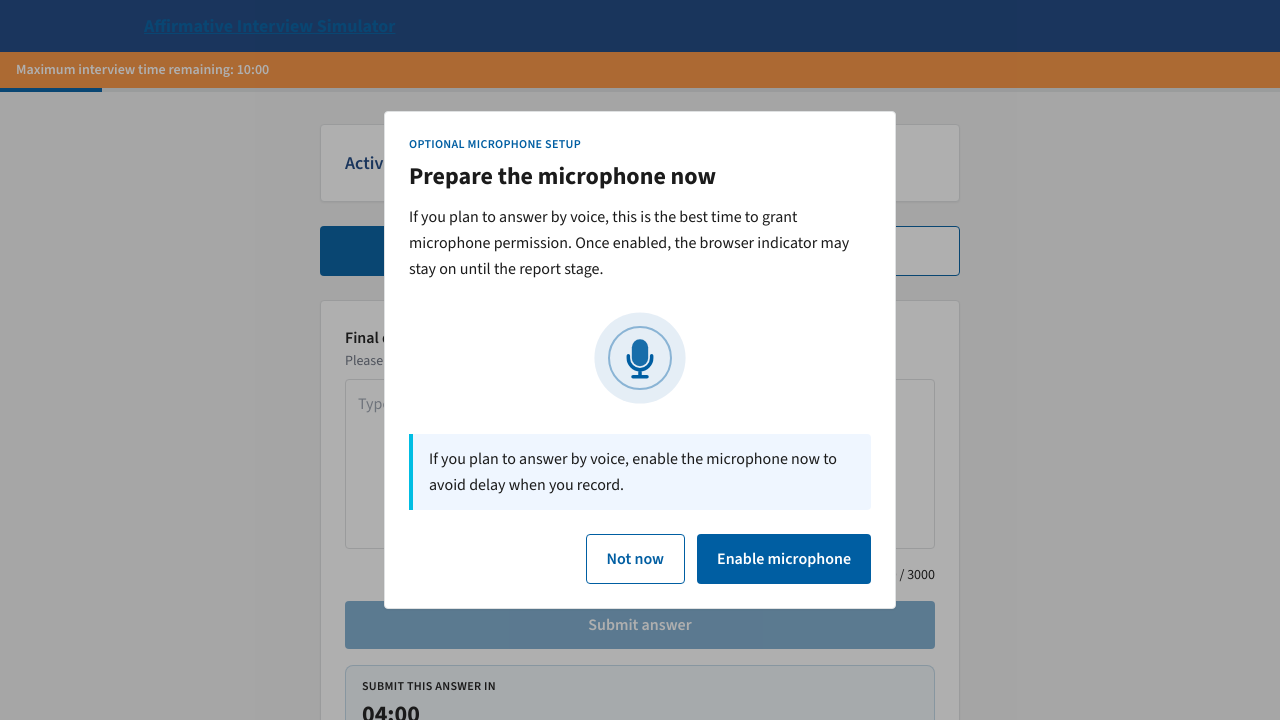
Scenario: InterviewPage › allows the readiness microphone prompt to be dismissed without warming the mic
Click the button "Not now" at (635, 559), box [586,534,685,584]
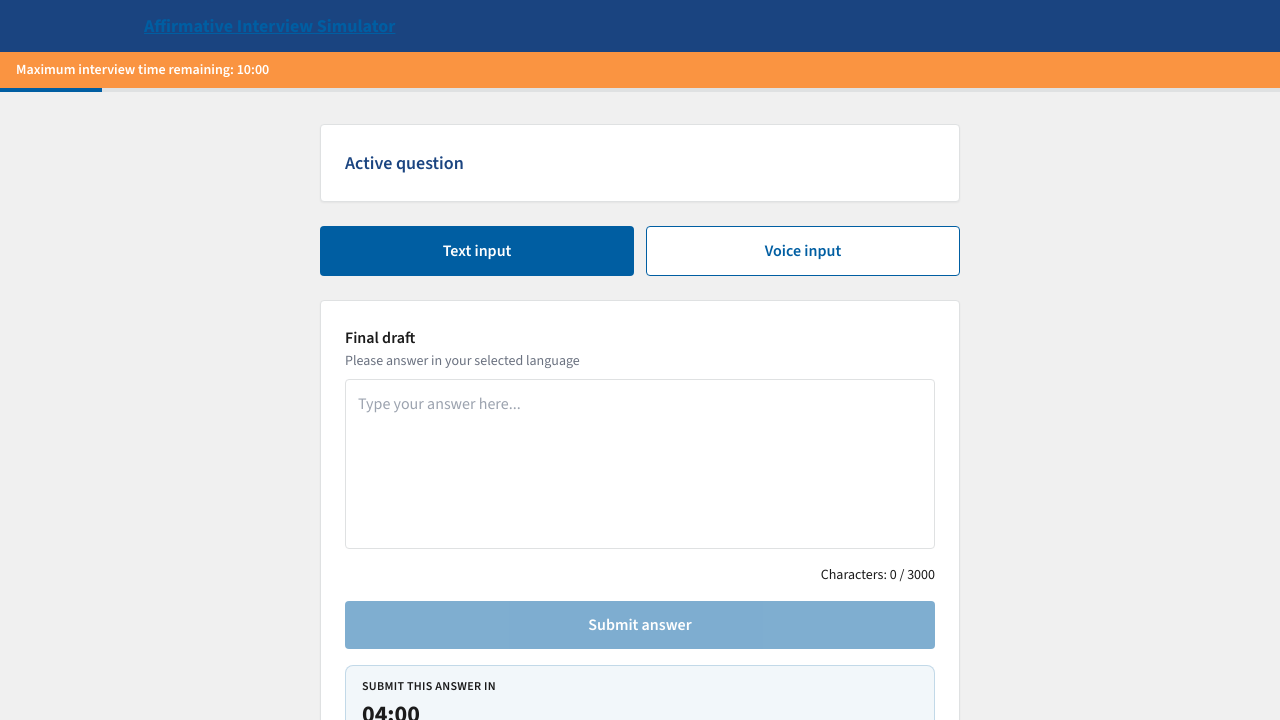
Check: the dialog is gone
